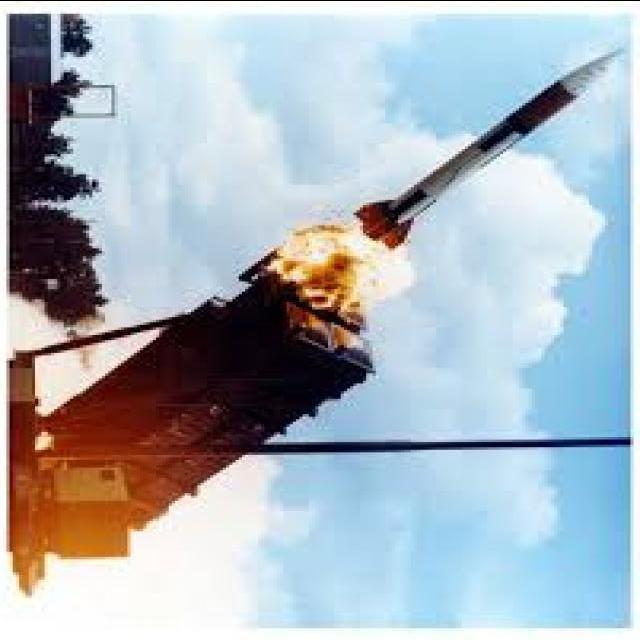missile: (352, 43, 622, 253)
